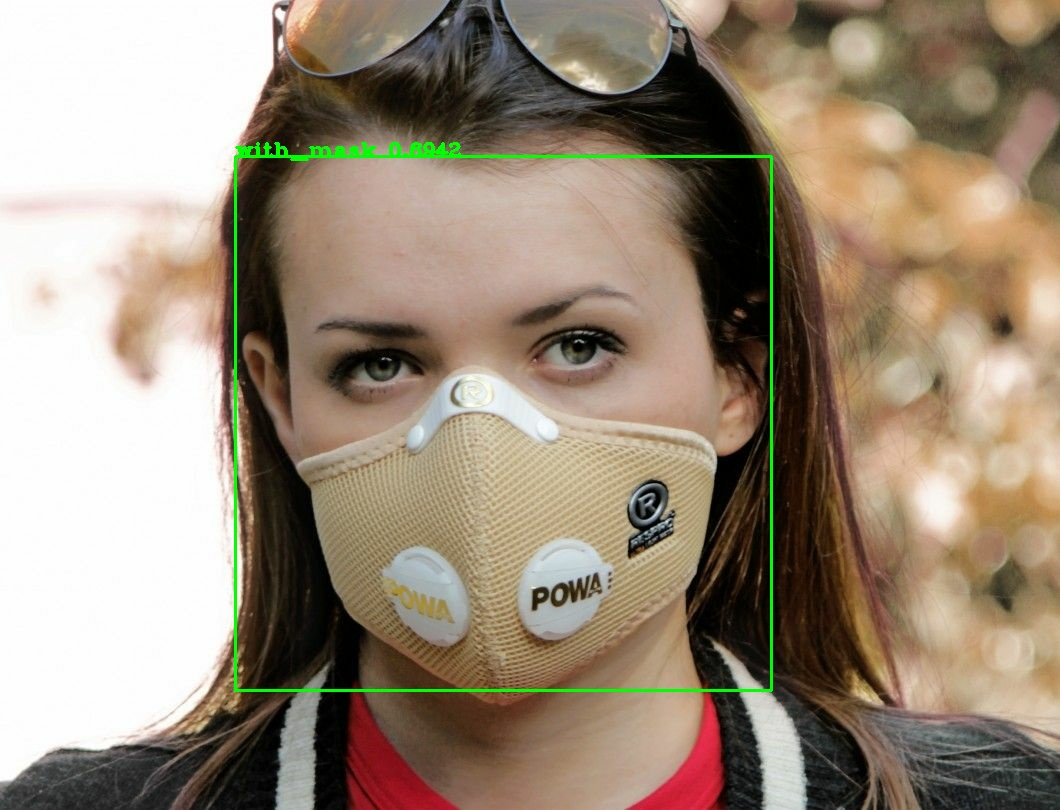with_mask: (235, 133, 771, 698)
